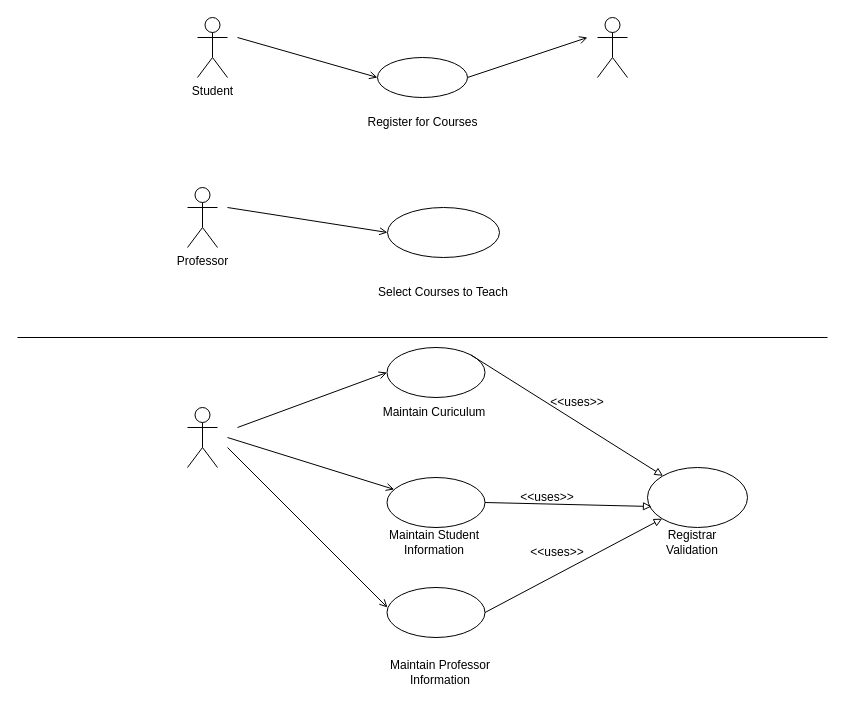
The diagram is 846 pixels wide and 705 high, and some of its shapes have lost their labels. The shapes that lost their labels are listed below. From the top down, each one's box as (x1, y1, x2, y2) in pixels, then its label:
(596, 16, 628, 78): Billing System
(186, 406, 218, 468): Registrar
